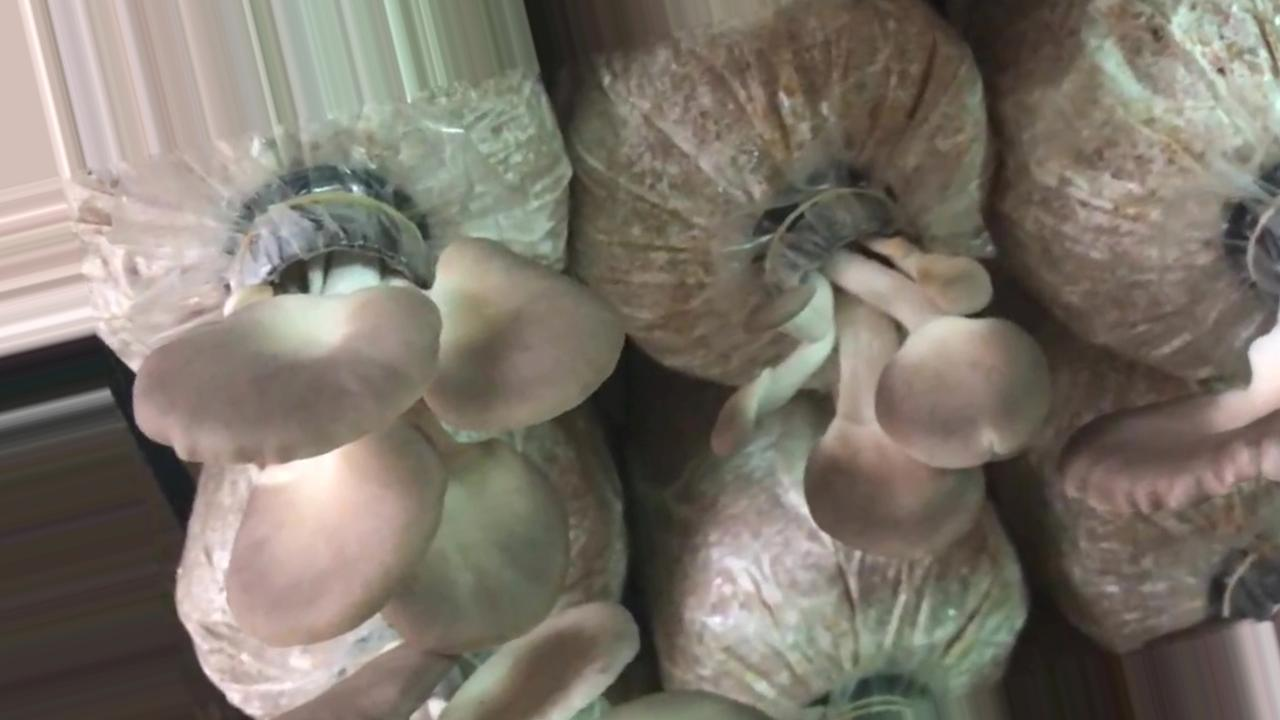nam: (131, 180, 628, 662), (706, 181, 1053, 567), (1080, 420, 1280, 498)
